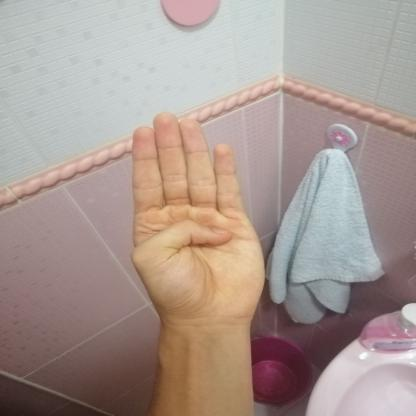KAAF: (105, 102, 294, 334)
